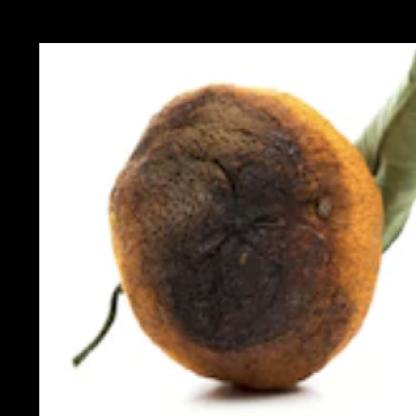rotten: (109, 83, 387, 393)
